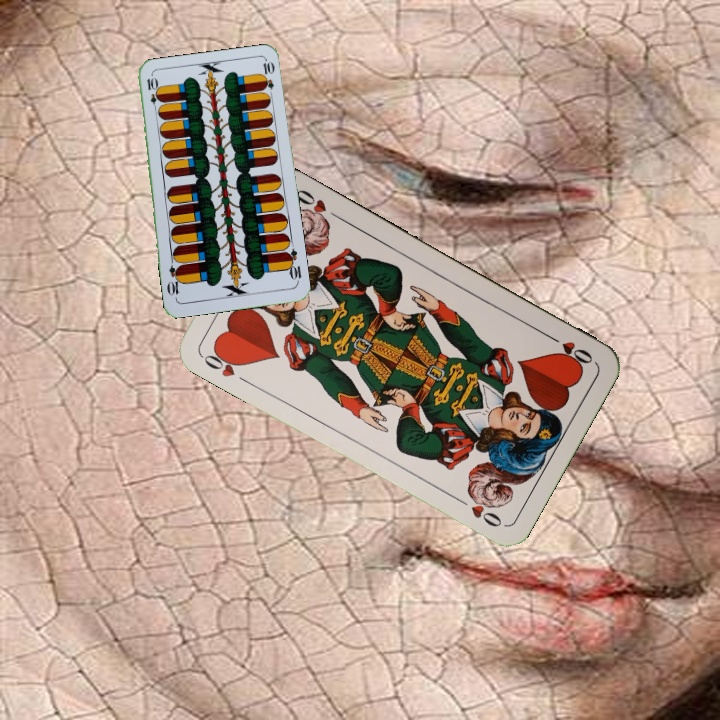E10: (281, 245, 304, 286), (143, 73, 161, 114)
HO: (198, 344, 252, 387), (543, 330, 596, 369)
